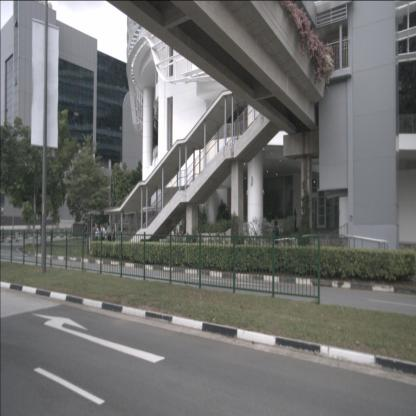human-pedestrian-adult: (272, 221, 279, 266), (90, 224, 98, 248), (106, 222, 112, 252), (94, 224, 100, 248), (84, 221, 88, 248), (102, 224, 106, 250), (112, 226, 116, 248), (100, 223, 103, 250), (294, 209, 297, 229)
